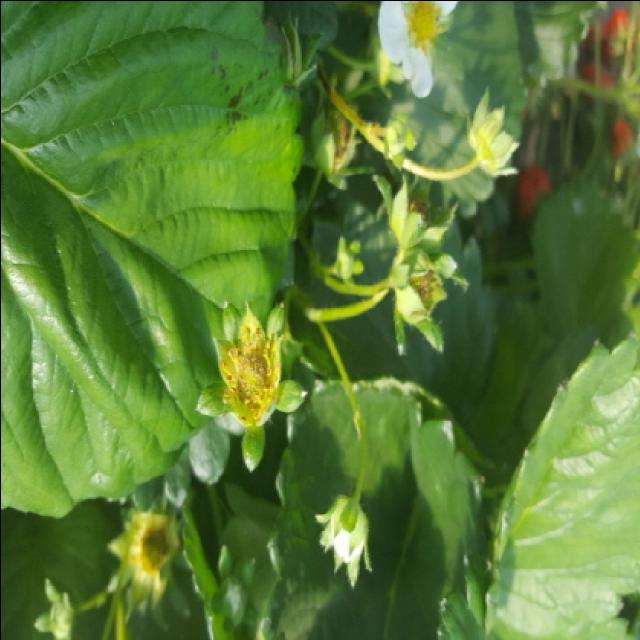Blossom Blight: (217, 316, 282, 425)
